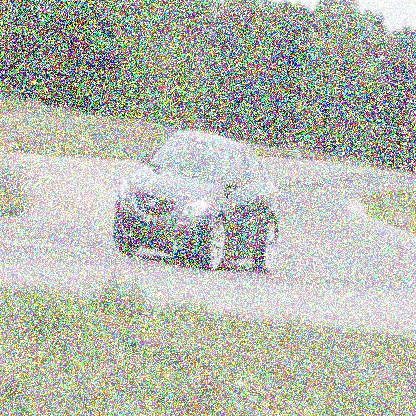Vehicle: (114, 129, 280, 272)
